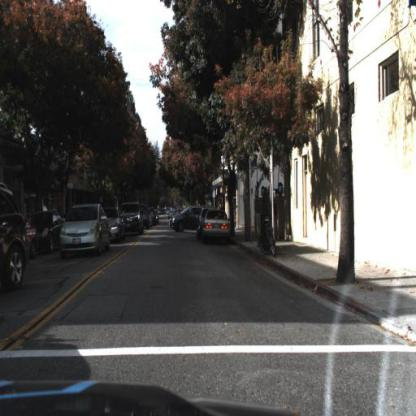car: (1, 181, 29, 296), (59, 201, 112, 261), (200, 208, 234, 250), (35, 210, 60, 254), (169, 203, 199, 235), (105, 204, 126, 248), (120, 201, 143, 241), (196, 208, 211, 243)
